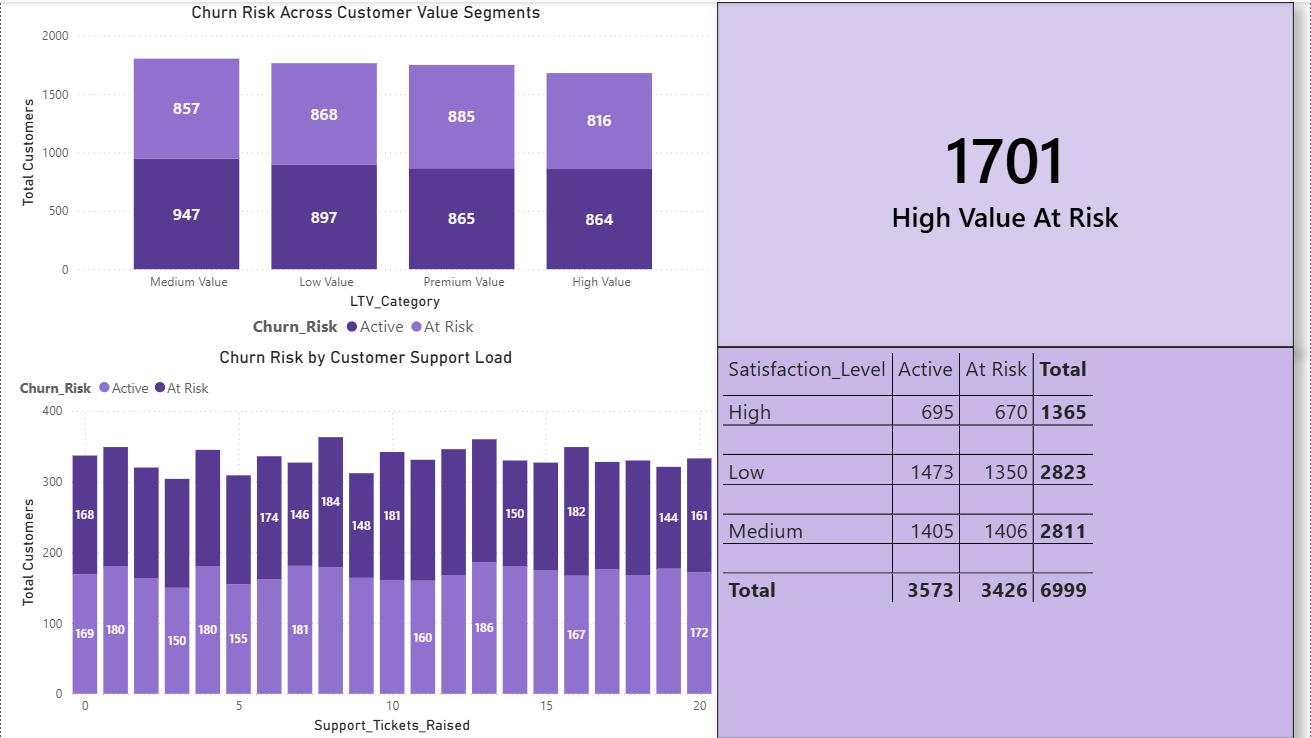

This screenshot's page, from the dashboard's own definition file:
{"tool":"powerbi","page":{"name":"Churn Risk & Customer Experience Insights","canvas":[1280,720],"ordinal":2},"visuals":[{"type":"columnChart","title":"Churn Risk Across Customer Value Segments","fields":{"Category":["digital_wallet_ltv_dataset.LTV_Category"],"Series":["digital_wallet_ltv_dataset.Churn_Risk"],"Y":["digital_wallet_ltv_dataset.Total Customers"]},"box":[13.7,0,687,337.4],"z":0},{"type":"card","fields":{"Values":["digital_wallet_ltv_dataset.High Value At Risk"]},"box":[700.7,0,563.9,337.4],"z":1000},{"type":"columnChart","title":"Churn Risk by Customer Support Load","fields":{"Category":["digital_wallet_ltv_dataset.Support_Tickets_Raised"],"Series":["digital_wallet_ltv_dataset.Churn_Risk"],"Y":["digital_wallet_ltv_dataset.Total Customers"]},"box":[13.7,337.4,687,383],"z":2000},{"type":"pivotTable","fields":{"Columns":["digital_wallet_ltv_dataset.Churn_Risk"],"Rows":["digital_wallet_ltv_dataset.Satisfaction_Level"],"Values":["digital_wallet_ltv_dataset.Total Customers"]},"box":[700.7,337.4,563.9,383],"z":3000}]}

Visuals, with their boxes in screenshot pixels (x1, y1, x2, y2), scaled from the page's 1280x720 canvas onto the 1311x738 screenshot:
"Churn Risk Across Customer Value Segments" columnChart: [x1=14, y1=0, x2=718, y2=346]
card - digital_wallet_ltv_dataset.High Value At Risk: [x1=718, y1=0, x2=1295, y2=346]
"Churn Risk by Customer Support Load" columnChart: [x1=14, y1=346, x2=718, y2=737]
pivotTable - digital_wallet_ltv_dataset.Churn_Risk x digital_wallet_ltv_dataset.Satisfaction_Level: [x1=718, y1=346, x2=1295, y2=737]
